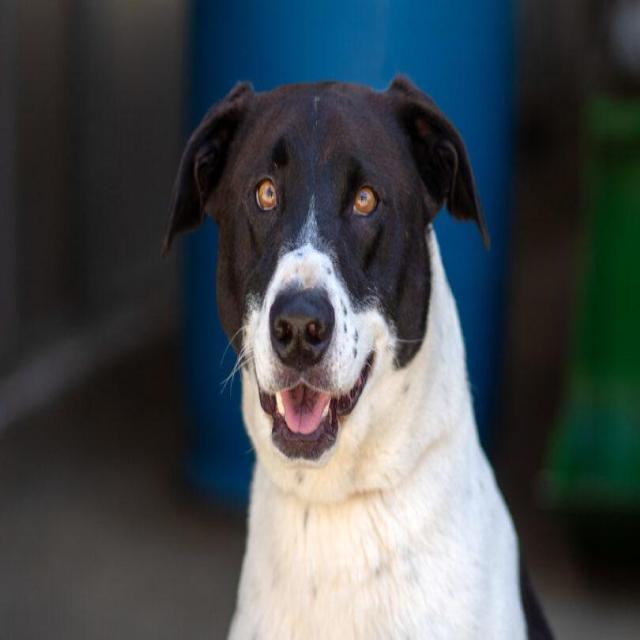Dog: (154, 63, 499, 493)
